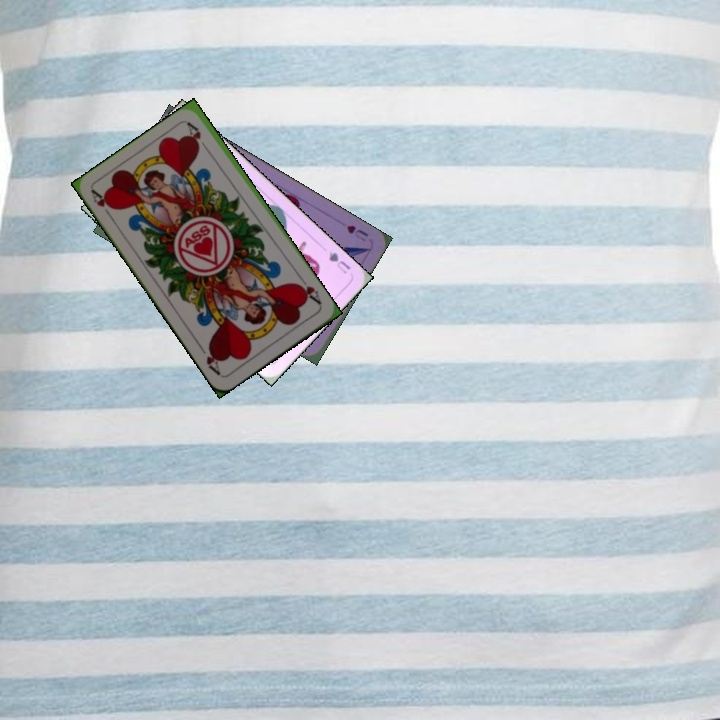GU: (325, 247, 353, 276)
HA: (292, 273, 324, 307), (88, 186, 117, 222)
HU: (343, 221, 371, 244)
